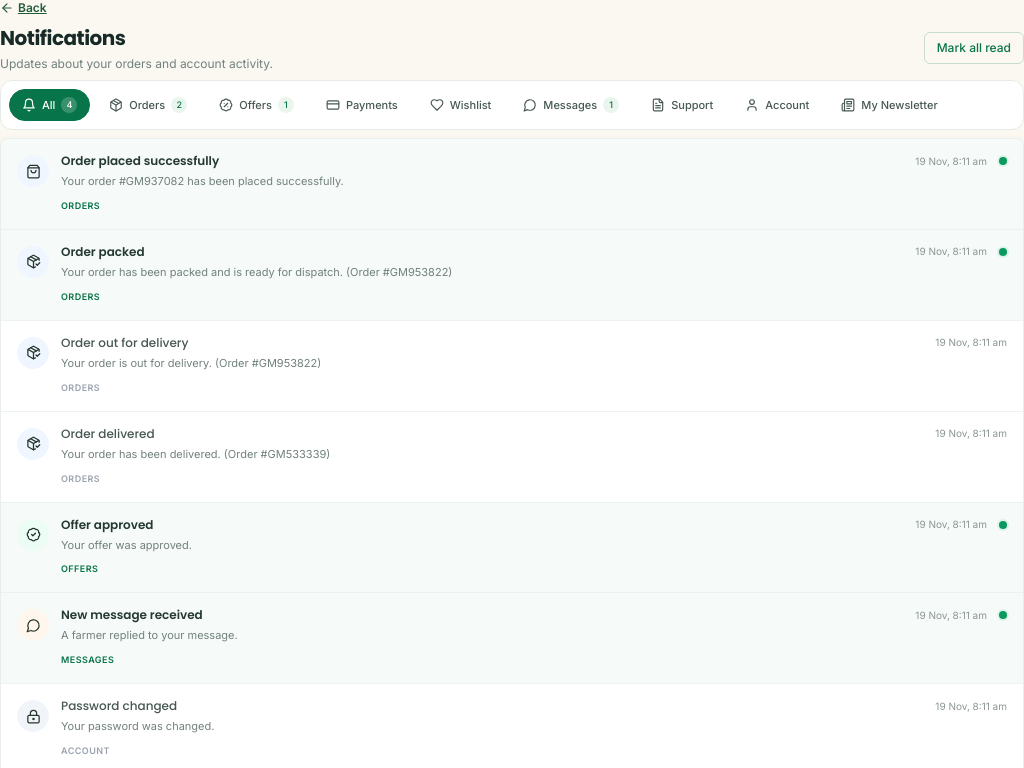
Scenario: Customer Notification Centre › offers filter displays only offer notifications
The image size is (1024, 768).
Expected: the heading "Order placed successfully" is shown, [61,153,219,169]
Click the button "Offers 1": x=257, y=105 [206,89,307,121]
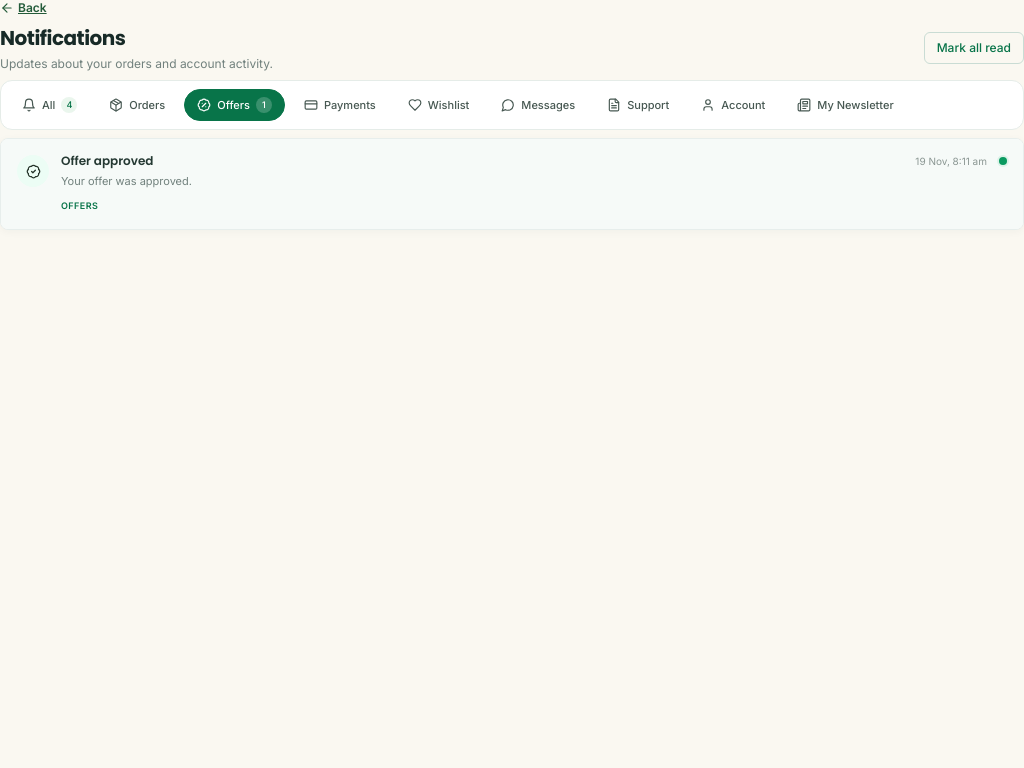
Expected: the heading "Offer approved" is shown, [61,153,154,169]
Expected: the heading "Order placed successfully" is gone
